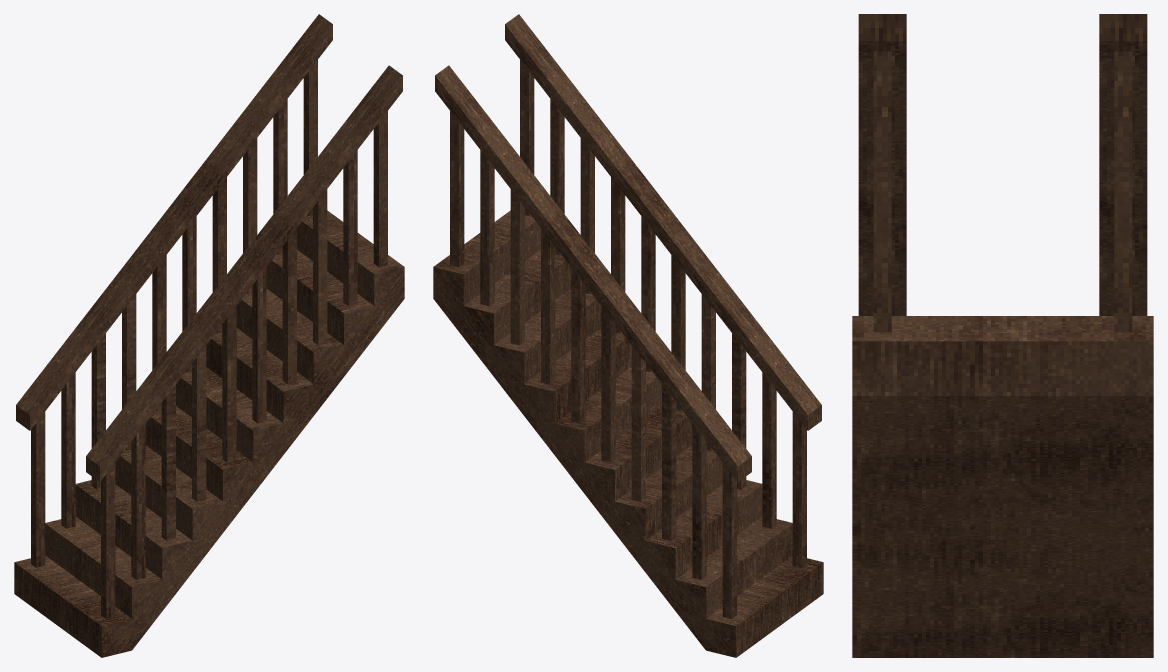
File: stair_medium_01.glb
3 renders of one model, left to right at view 1: azimuth 30°, elevation 25°; view 2: azimuth 150°, elevation 25°; view 3: azimuth 270°, elevation 25°, orthographic. The views are drawn at different scales.
Visible parts, largest first — view 1: stair_medium_012, railing_stair_02_R, railing_stair_02_L_001; view 2: stair_medium_012, railing_stair_02_L_001, railing_stair_02_R; view 3: stair_medium_012, railing_stair_02_L_001, railing_stair_02_R.
Part boxes in pixels (x1,y1,x2,y2): stair_medium_012: [14, 210, 404, 657]; railing_stair_02_R: [86, 65, 402, 618]; railing_stair_02_L_001: [16, 14, 332, 567]; stair_medium_012: [433, 210, 823, 657]; railing_stair_02_L_001: [435, 65, 751, 618]; railing_stair_02_R: [505, 14, 821, 567]; stair_medium_012: [852, 316, 1153, 657]; railing_stair_02_L_001: [1099, 14, 1147, 332]; railing_stair_02_R: [858, 14, 906, 332].
Bounding box in the file's own units: 2 × 3.2 × 1.
Materials: 3 (3 with a texture image).
